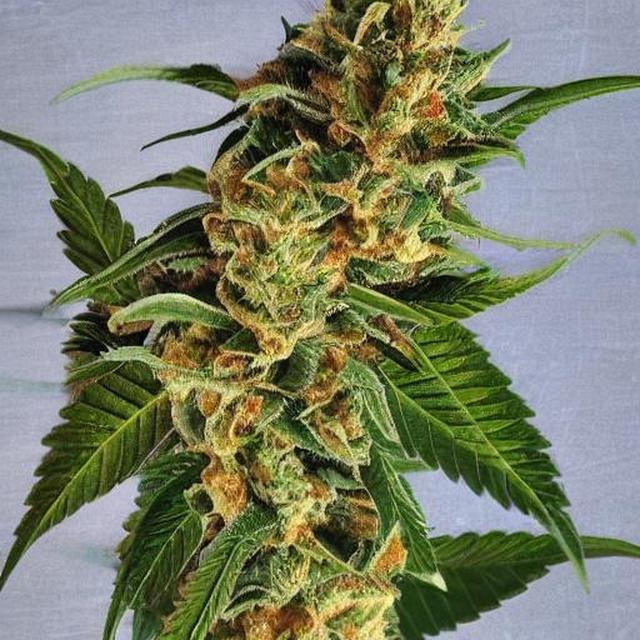Marijuana Plant: (111, 1, 548, 627)
